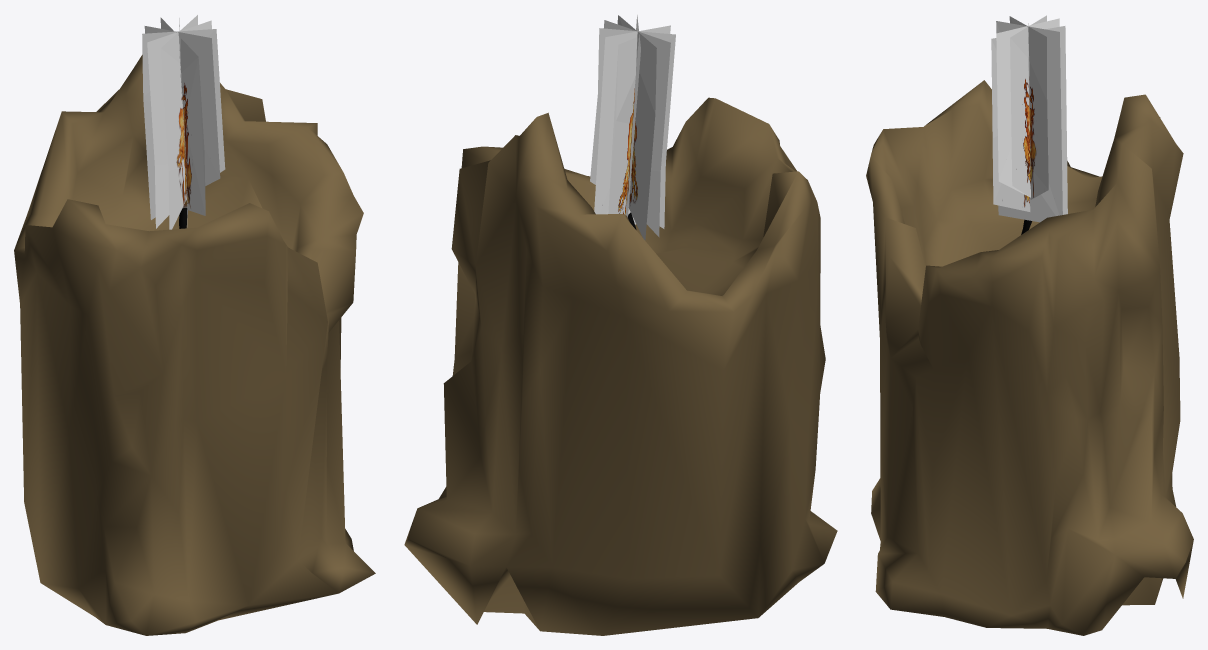
Rendered from Candle_Wide_3.fbx.
3 renders of one model, left to right at view 1: azimuth 30°, elevation 25°; view 2: azimuth 150°, elevation 25°; view 3: azimuth 270°, elevation 25°, orthographic. The views are drawn at different scales.
Parts seen in each view (by area): view 1: Candle Wide 3; view 2: Candle Wide 3; view 3: Candle Wide 3.
Part boxes in pixels (x1,y1,x2,y2): Candle Wide 3: [14, 15, 375, 635]; Candle Wide 3: [404, 15, 837, 635]; Candle Wide 3: [866, 15, 1193, 635].
Size of the model in its own units: 46.17 by 76.75 by 42.35.
